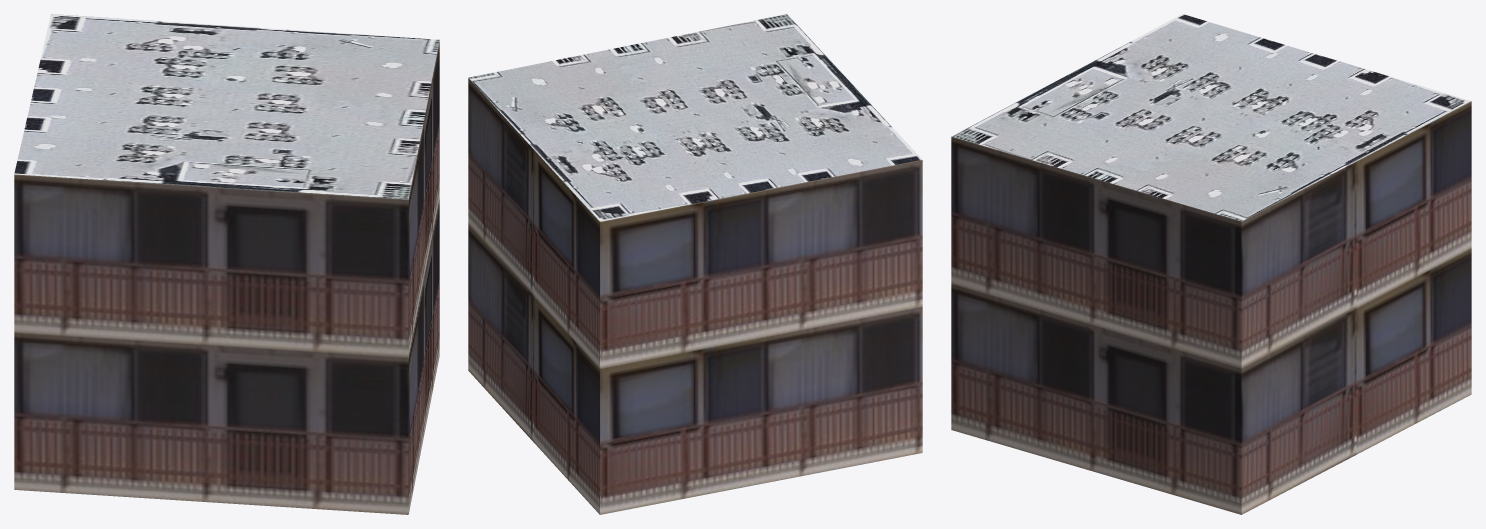
File: ResTex__1091.fbx
3 views of the same model, side by side, from view 1: azimuth 30°, elevation 25°; view 2: azimuth 150°, elevation 25°; view 3: azimuth 270°, elevation 25° (orthographic). The views are drawn at different scales.
Parts seen in each view (by area): view 1: CityEngineMaterial_6_m, CityEngineMaterial_m; view 2: CityEngineMaterial_6_m, CityEngineMaterial_m; view 3: CityEngineMaterial_6_m, CityEngineMaterial_m.
Boxes of the visible parts, box(x1,y1,x2,y2) form: CityEngineMaterial_6_m: box(14, 41, 439, 514); CityEngineMaterial_m: box(14, 14, 439, 199); CityEngineMaterial_6_m: box(468, 78, 922, 514); CityEngineMaterial_m: box(469, 14, 922, 221); CityEngineMaterial_6_m: box(951, 101, 1471, 514); CityEngineMaterial_m: box(952, 14, 1471, 221).
Size of the model in its own units: 9.1 by 6 by 9.64.
2 materials, 2 textured.
